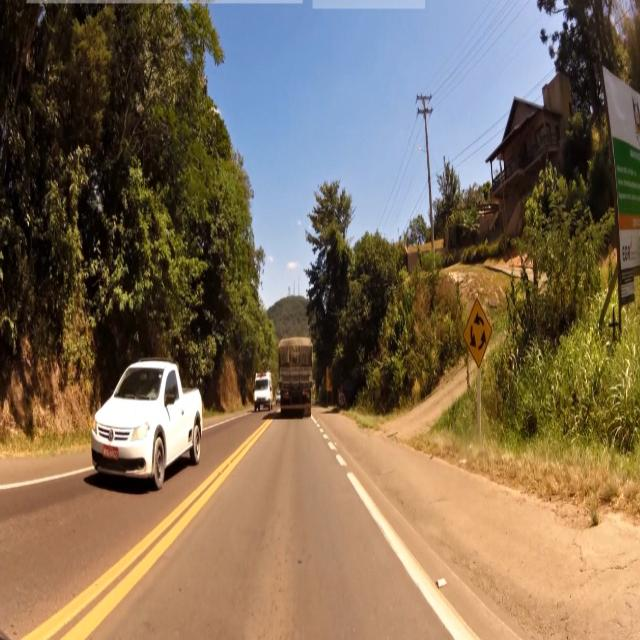A-12: (464, 297, 492, 367)
